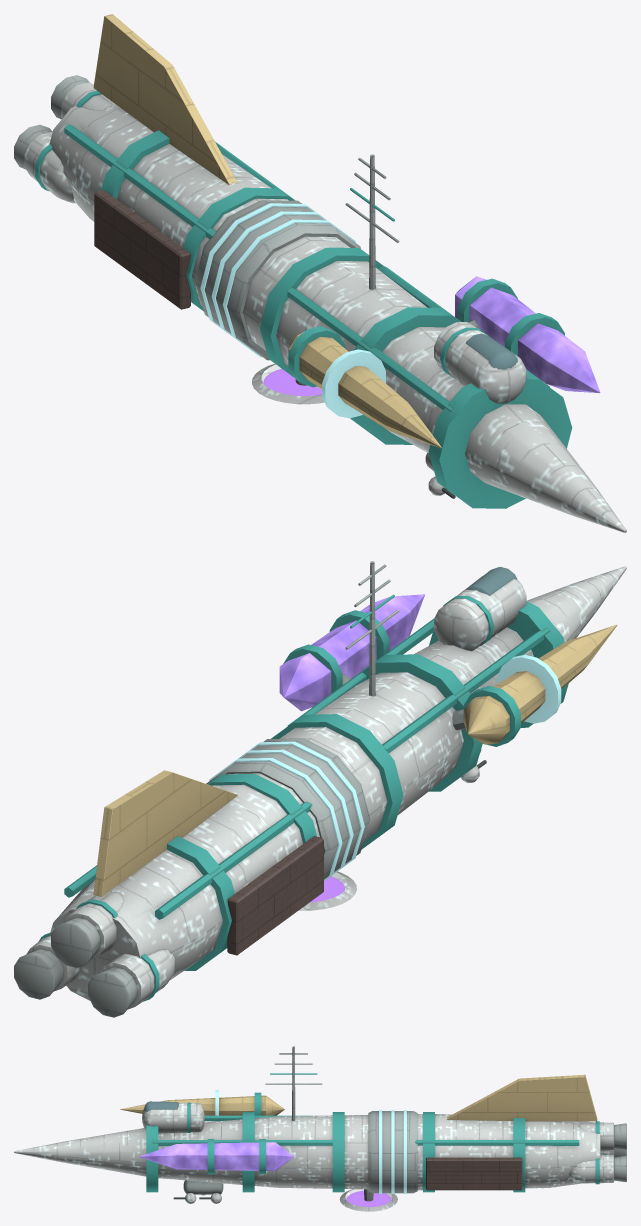
File: ilk_destroyer.glb
3 views of the same model, one above another, from view 1: azimuth 30°, elevation 25°; view 2: azimuth 150°, elevation 25°; view 3: azimuth 270°, elevation 25° (orthographic). The views are drawn at different scales.
Visible parts, largest first — view 1: HULL, SYS_REACTOR, SYS_WPN2, SYS_WPN1, SYS_BRIDGE, SYS_DRIVE, SYS_BUS_F, SYS_BUS_A, SYS_DAMP, SYS_SENSORS; view 2: HULL, SYS_DRIVE, SYS_REACTOR, SYS_WPN2, SYS_WPN1, SYS_BRIDGE, SYS_BUS_F, SYS_BUS_A, SYS_SENSORS, SYS_DAMP; view 3: HULL, SYS_REACTOR, SYS_WPN1, SYS_DRIVE, SYS_BRIDGE, SYS_WPN2, SYS_BUS_F, SYS_DAMP, SYS_BUS_A, SYS_PD, SYS_SENSORS.
Boxes of the visible parts, x1,y1,x2,y2 form: HULL: (49, 14, 626, 532); SYS_REACTOR: (195, 200, 360, 360); SYS_WPN2: (288, 326, 441, 448); SYS_WPN1: (455, 276, 600, 393); SYS_BRIDGE: (434, 322, 526, 403); SYS_DRIVE: (14, 75, 116, 203); SYS_BUS_F: (287, 265, 549, 411); SYS_BUS_A: (64, 124, 295, 238); SYS_DAMP: (252, 364, 324, 404); SYS_SENSORS: (345, 154, 399, 289); HULL: (49, 566, 626, 1000); SYS_DRIVE: (14, 890, 174, 1017); SYS_REACTOR: (206, 738, 369, 880); SYS_WPN2: (452, 624, 617, 746); SYS_WPN1: (279, 594, 424, 711); SYS_BRIDGE: (434, 567, 526, 650); SYS_BUS_F: (287, 618, 549, 752); SYS_BUS_A: (64, 780, 311, 919); SYS_SENSORS: (345, 561, 399, 696); SYS_DAMP: (299, 871, 356, 910); HULL: (14, 1074, 600, 1192); SYS_REACTOR: (368, 1110, 417, 1193); SYS_WPN1: (139, 1139, 294, 1174); SYS_DRIVE: (569, 1121, 626, 1184); SYS_BRIDGE: (142, 1101, 204, 1133); SYS_WPN2: (120, 1090, 284, 1115); SYS_BUS_F: (152, 1115, 332, 1145); SYS_DAMP: (339, 1189, 397, 1211); SYS_BUS_A: (415, 1140, 579, 1145); SYS_PD: (173, 1180, 223, 1203); SYS_SENSORS: (265, 1046, 322, 1120).
Bounding box in the file's own units: 11.3 × 13.02 × 46.64.
1 material, 1 textured.
